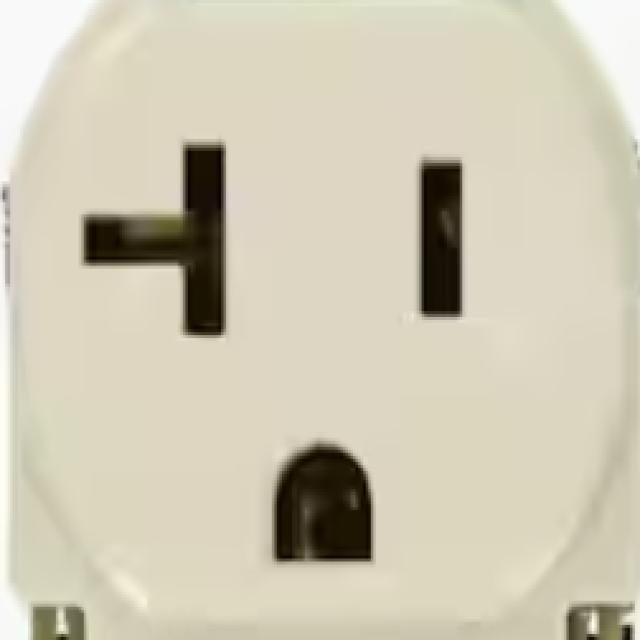type_b_tc: (11, 11, 640, 634)
